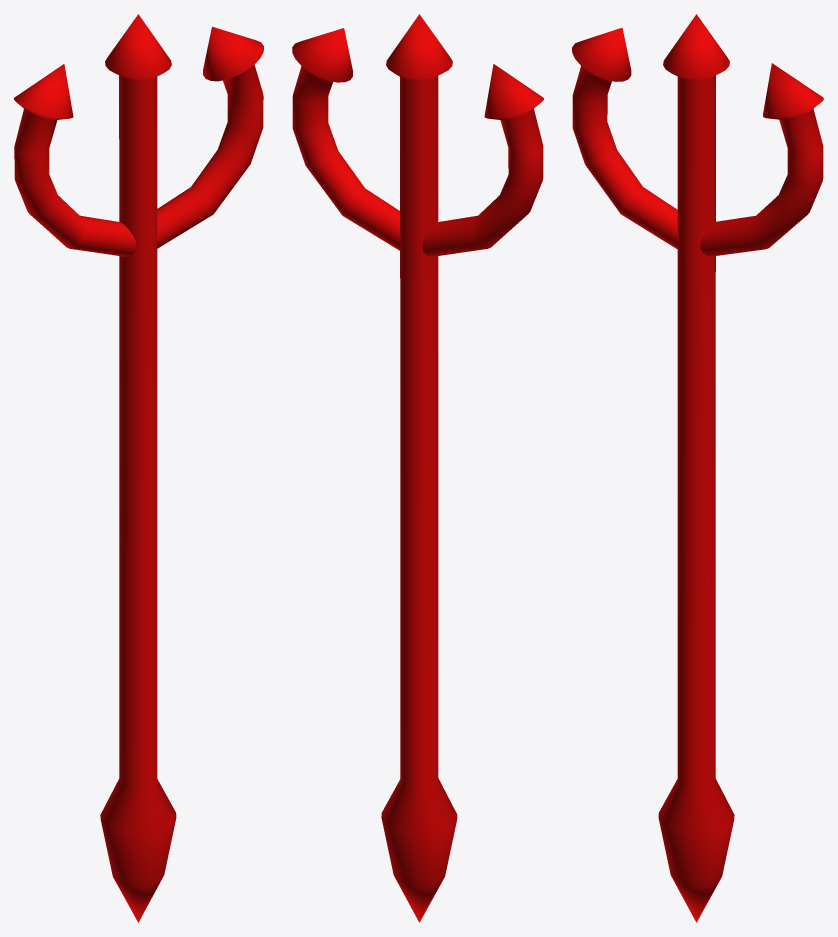
The model's file is Pitchfork.fbx.
3 renders of one model, left to right at view 1: azimuth 30°, elevation 25°; view 2: azimuth 150°, elevation 25°; view 3: azimuth 330°, elevation 25°, orthographic.
Parts seen in each view (by area): view 1: pCylinder4; view 2: pCylinder4; view 3: pCylinder4.
Part boxes in pixels (left/top/right/bottom): pCylinder4: left=14, top=14, right=263, bottom=922; pCylinder4: left=292, top=14, right=543, bottom=922; pCylinder4: left=572, top=14, right=823, bottom=922.
Size of the model in its own units: 62.87 by 223 by 16.42.
